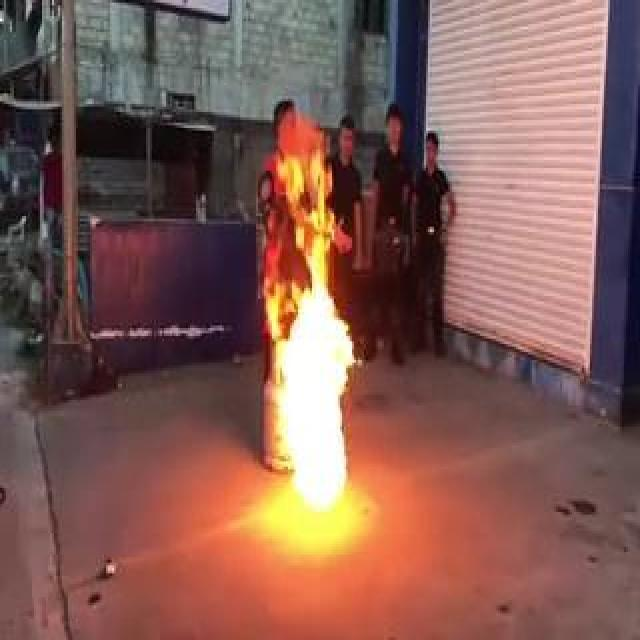Fire: (257, 112, 349, 520)
